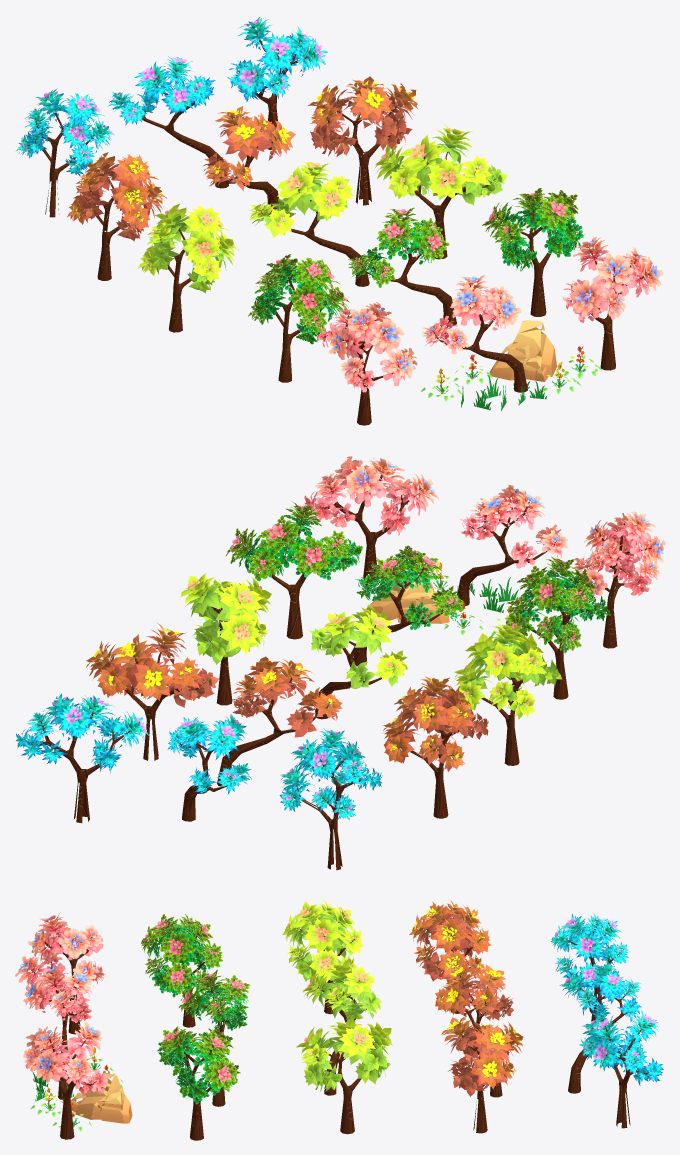
The model's file is NAT_TreesPainted.glb.
3 views of the same model, one above another, from view 1: azimuth 30°, elevation 25°; view 2: azimuth 150°, elevation 25°; view 3: azimuth 270°, elevation 25° (orthographic). The views are drawn at different scales.
Visible parts, largest first — view 1: TRS3_1, TRS4_4, TRW2_8, TRW3_2, TRS2_7, TRW4_3, TRW1_10, TRS1_9, TRT4_19, TRW5_6, TRT2_17, TRS5_5 (+5 smaller); view 2: TRS2_7, TRS4_4, TRW4_3, TRW3_2, TRS1_9, TRW2_8, TRS3_1, TRS5_5, TRW1_10, TRW5_6, TRT3_18, TRT1_16 (+5 smaller); view 3: TRS3_1, TRW2_8, TRS2_7, TRS4_4, TRS1_9, TRW3_2, TRW4_3, TRS5_5, TRW1_10, TRW5_6, TRT3_18, TRT4_19 (+4 smaller).
Boxes of the visible parts, <box> form: TRS3_1: <box>373,123,507,259</box>; TRS4_4: <box>308,76,418,205</box>; TRW2_8: <box>247,254,351,382</box>; TRW3_2: <box>138,203,238,332</box>; TRS2_7: <box>482,188,584,316</box>; TRW4_3: <box>67,152,166,280</box>; TRW1_10: <box>316,302,417,425</box>; TRS1_9: <box>562,236,663,370</box>; TRT4_19: <box>248,161,369,286</box>; TRW5_6: <box>16,88,114,217</box>; TRT2_17: <box>347,207,456,325</box>; TRS5_5: <box>227,17,327,149</box>; TRS2_7: <box>225,501,362,639</box>; TRS4_4: <box>86,622,218,760</box>; TRW4_3: <box>382,676,488,818</box>; TRW3_2: <box>453,623,561,765</box>; TRS1_9: <box>303,456,439,585</box>; TRW2_8: <box>506,556,610,699</box>; TRS3_1: <box>180,573,271,705</box>; TRS5_5: <box>16,693,149,823</box>; TRW1_10: <box>573,511,665,648</box>; TRW5_6: <box>279,728,382,870</box>; TRT3_18: <box>217,656,342,786</box>; TRT1_16: <box>457,484,568,606</box>; TRS3_1: <box>296,1018,392,1134</box>; TRW2_8: <box>141,913,223,1027</box>; TRS2_7: <box>157,1025,240,1140</box>; TRS4_4: <box>441,1016,523,1133</box>; TRS1_9: <box>23,1022,107,1139</box>; TRW3_2: <box>282,900,363,1014</box>; TRW4_3: <box>409,900,491,1013</box>; TRS5_5: <box>579,1010,663,1128</box>; TRW1_10: <box>15,912,107,1034</box>; TRW5_6: <box>551,913,628,1021</box>; TRT3_18: <box>435,962,513,1097</box>; TRT4_19: <box>302,959,381,1095</box>.
Size of the model in its own units: 23.79 by 7.8 by 39.73.
Materials: 2 (2 with a texture image).
